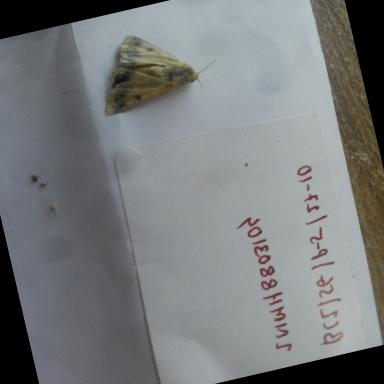abw: (80, 10, 234, 122)
